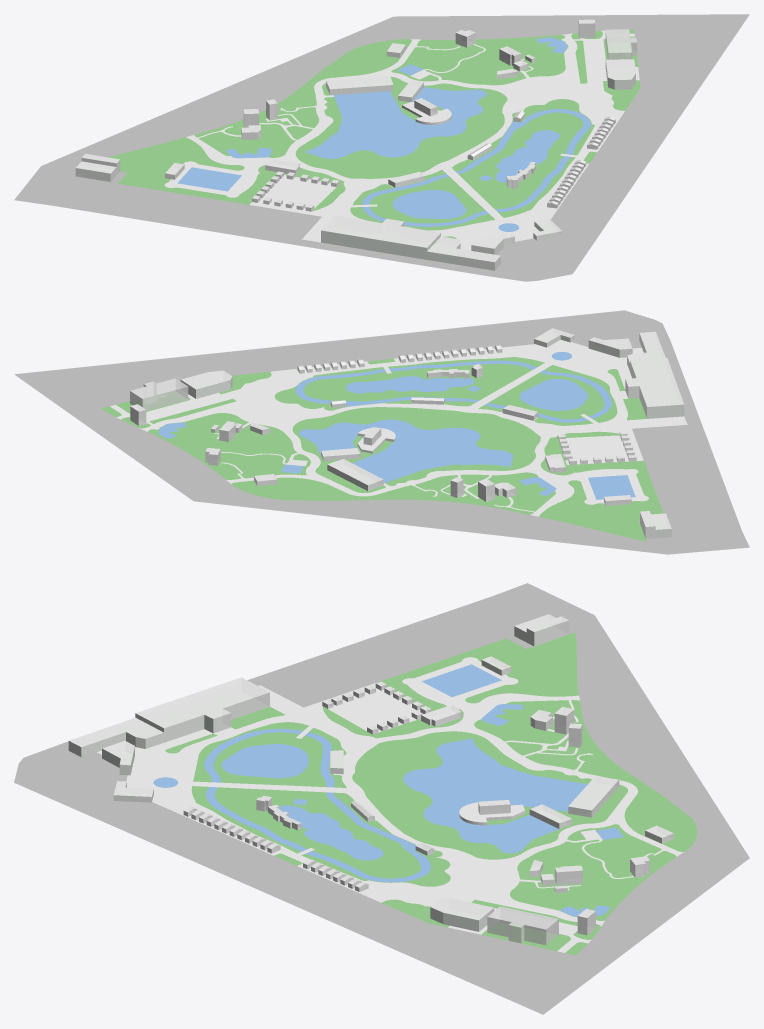
3 renders of one model, top to bottom at view 1: azimuth 30°, elevation 25°; view 2: azimuth 150°, elevation 25°; view 3: azimuth 270°, elevation 25°, orthographic. The views are drawn at different scales.
Parts seen in each view (by area): view 1: SketchUp (×20), group_0 (×8); view 2: SketchUp (×20), group_0 (×9); view 3: SketchUp (×19), group_0 (×7).
Part boxes in pixels (<box>): SketchUp (×20): <box>14,14,749,281</box>; group_0 (×8): <box>75,29,636,270</box>; SketchUp (×20): <box>14,310,749,554</box>; group_0 (×9): <box>130,328,684,538</box>; SketchUp (×19): <box>14,583,749,1014</box>; group_0 (×7): <box>68,614,619,945</box>.
Bounding box in the file's own units: 25338 × 18251 × 512.
